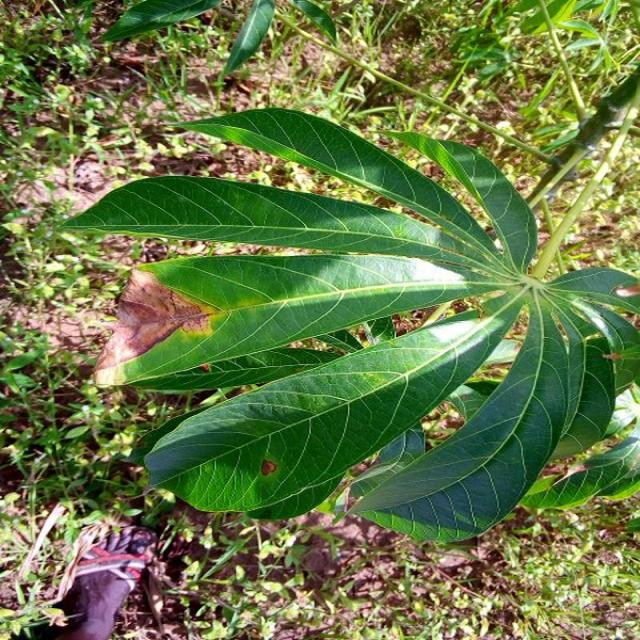cassava leaf: (59, 104, 638, 543), (142, 298, 522, 520)
